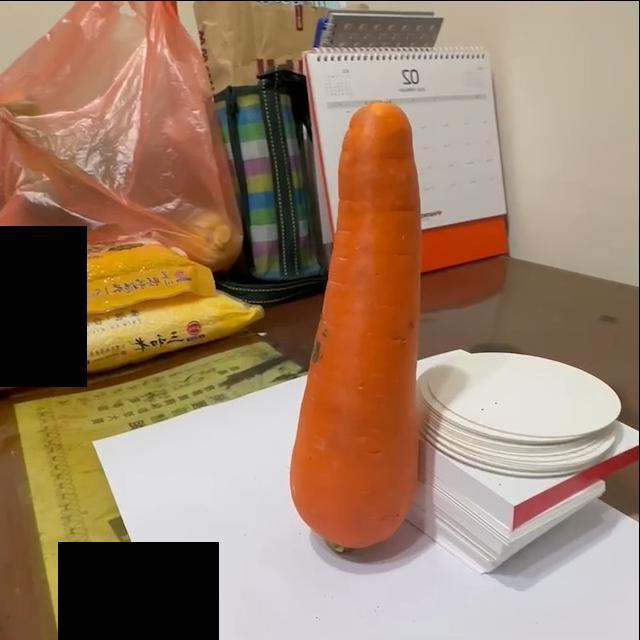carrot: (288, 99, 427, 558)
